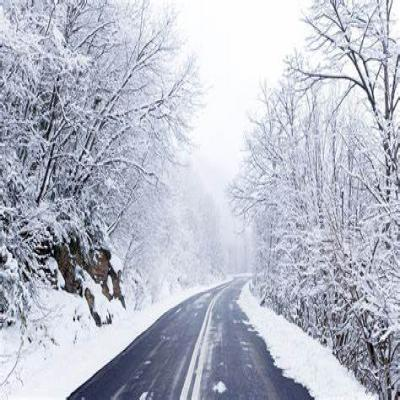iced-road: (68, 286, 225, 399), (200, 278, 312, 400)
